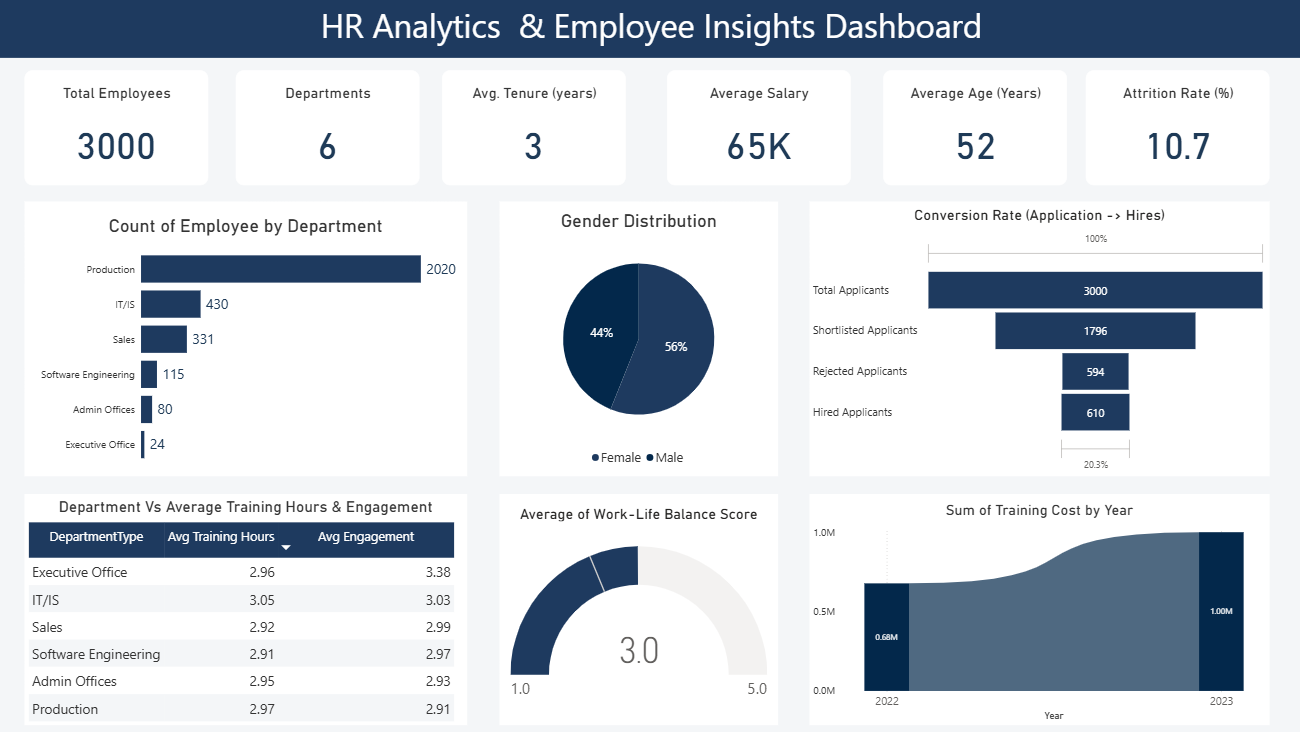

What the dashboard file says about the page in this screenshot:
{"tool":"powerbi","page":{"name":"Page 1","canvas":[1920,1080],"ordinal":0},"visuals":[{"type":"card","title":"Total Employees","fields":{"Values":["employee_data.Employee Count"]},"box":[40.4,104.6,269.6,168.8],"z":0},{"type":"barChart","title":"Count of Employee by Department","fields":{"Category":["employee_data.DepartmentType"],"Y":["CountNonNull(employee_data.EmpID)"]},"box":[40.4,297.1,649.3,403.5],"z":1000},{"type":"textbox","box":[0,0,1920.5,86.2],"z":2000},{"type":"card","title":"Average Age (Years)","fields":{"Values":["employee_data.Average Age"]},"box":[1300.5,104.6,269.6,168.8],"z":3000},{"type":"card","title":"Attrition Rate (%)","fields":{"Values":["employee_data.Attrition Rate (%)"]},"box":[1597.6,104.6,269.6,168.8],"z":4000},{"type":"card","title":"Departments","fields":{"Values":["Count(employee_data.DepartmentType)"]},"box":[350.3,104.6,269.6,168.8],"z":5000},{"type":"card","title":"Avg. Tenure (years)","fields":{"Values":["employee_data.Average Tenure (Years)"]},"box":[653,104.6,269.6,168.8],"z":6000},{"type":"pieChart","title":"Gender Distribution","fields":{"Category":["employee_data.GenderCode"],"Y":["CountNonNull(employee_data.GenderCode)"]},"box":[737.4,297.1,409,403.5],"z":7000},{"type":"tableEx","title":"Department Vs Average  Training Hours & Engagement","fields":{"Values":["employee_data.DepartmentType","employee_data.Avg Training Hours","employee_data.Avg Engagement"]},"box":[40.4,726.4,649.3,339.3],"z":8000},{"type":"funnel","title":"Conversion Rate (Application -> Hires)","fields":{"Y":["recruitment_data.Total Applicants","recruitment_data.Shortlisted Applicants","recruitment_data.Rejected Applicants","recruitment_data.Hired Applicants"]},"box":[1192.3,297.1,675,403.5],"z":9000},{"type":"gauge","fields":{"Y":["Avg(employee_engagement_survey_data.Work-Life Balance Score)"]},"box":[737.4,726.4,409,339.3],"z":10000},{"type":"card","title":"Average Salary","fields":{"Values":["Avg(recruitment_data.Desired Salary)"]},"box":[983.2,104.6,269.6,168.8],"z":11000},{"type":"ribbonChart","fields":{"Category":["training_and_development_data.Training Date.Variation.Date Hierarchy.Year","training_and_development_data.Training Date.Variation.Date Hierarchy.Quarter","training_and_development_data.Training Date.Variation.Date Hierarchy.Month","training_and_development_data.Training Date.Variation.Date Hierarchy.Day"],"Y":["Sum(training_and_development_data.Training Cost)"]},"box":[1192,726,675,339],"z":12000}]}

Visuals, with their boxes in screenshot pixels (x1, y1, x2, y2), scaled from the page's 1920x1080 canvas onto the 1300x732 screenshot:
"Total Employees" card: [27,71,210,185]
"Count of Employee by Department" barChart: [27,201,467,475]
textbox: [0,0,1299,58]
"Average Age (Years)" card: [881,71,1063,185]
"Attrition Rate (%)" card: [1082,71,1264,185]
"Departments" card: [237,71,420,185]
"Avg. Tenure (years)" card: [442,71,625,185]
"Gender Distribution" pieChart: [499,201,776,475]
"Department Vs Average  Training Hours & Engagement" tableEx: [27,492,467,722]
"Conversion Rate (Application -> Hires)" funnel: [807,201,1264,475]
gauge - Avg(employee_engagement_survey_data.Work-Life Balance Score): [499,492,776,722]
"Average Salary" card: [666,71,848,185]
ribbonChart - training_and_development_data.Training Date.Variation.Date Hierarchy.Year x training_and_development_data.Training Date.Variation.Date Hierarchy.Quarter: [807,492,1264,722]
